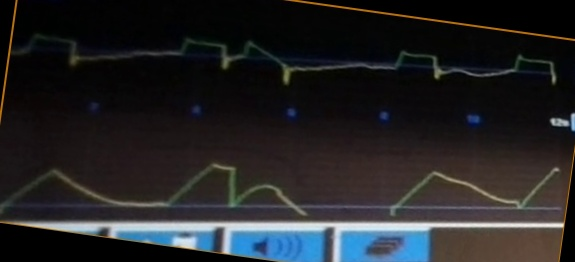Double_Triggering Flow: (14, 31, 558, 99)
Double_Triggering Volume: (1, 152, 557, 216)
